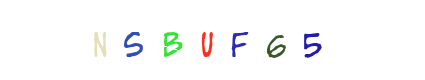5: (235, 0, 315, 80)
6: (190, 0, 270, 80)
B: (167, 0, 247, 80)
F: (189, 0, 269, 80)
N: (116, 0, 196, 80)
S: (131, 0, 211, 80)
U: (172, 0, 252, 80)
